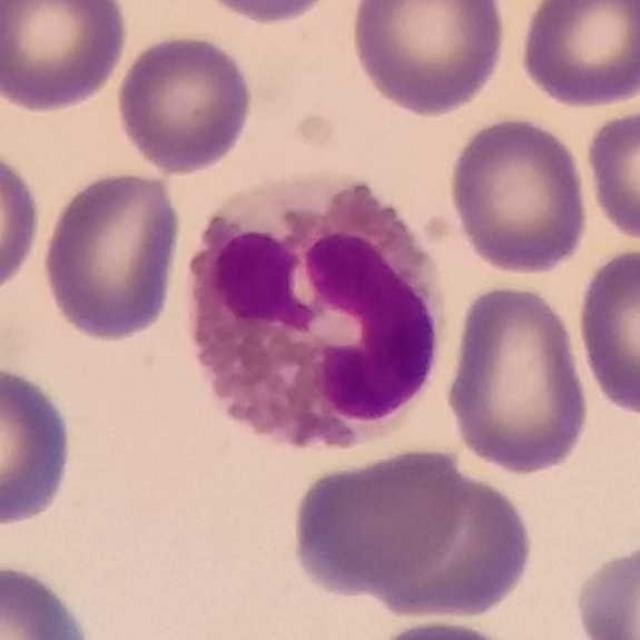eosino: (189, 172, 447, 451)
